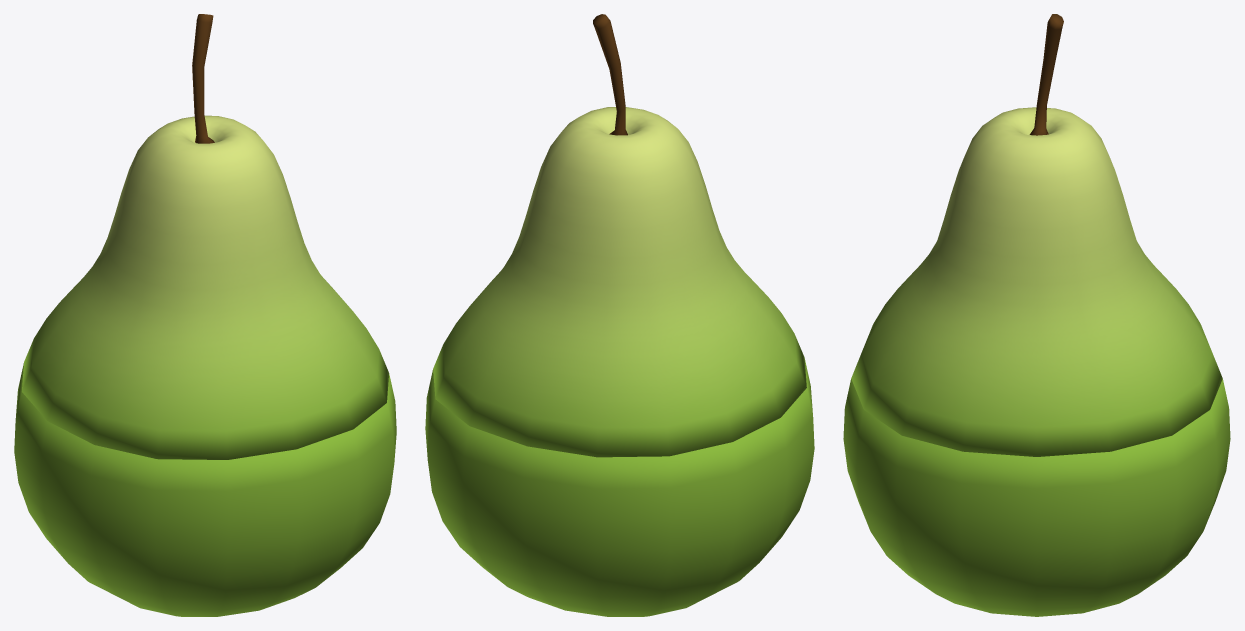
File: PearSplit.fbx
3 views of the same model, side by side, from view 1: azimuth 30°, elevation 25°; view 2: azimuth 150°, elevation 25°; view 3: azimuth 270°, elevation 25° (orthographic).
Parts seen in each view (by area): view 1: pear.001, pear.002; view 2: pear.001, pear.002; view 3: pear.001, pear.002.
Boxes of the visible parts, box(x1,y1,x2,y2) form: pear.001: box(22, 14, 388, 459); pear.002: box(14, 363, 396, 616); pear.001: box(433, 14, 806, 457); pear.002: box(425, 359, 814, 616); pear.001: box(851, 14, 1222, 456); pear.002: box(843, 379, 1230, 616).
Bounding box in the file's own units: 482 × 802 × 482.
